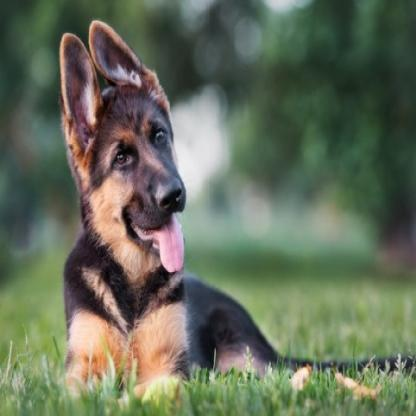german shepherd: (57, 18, 272, 384)
